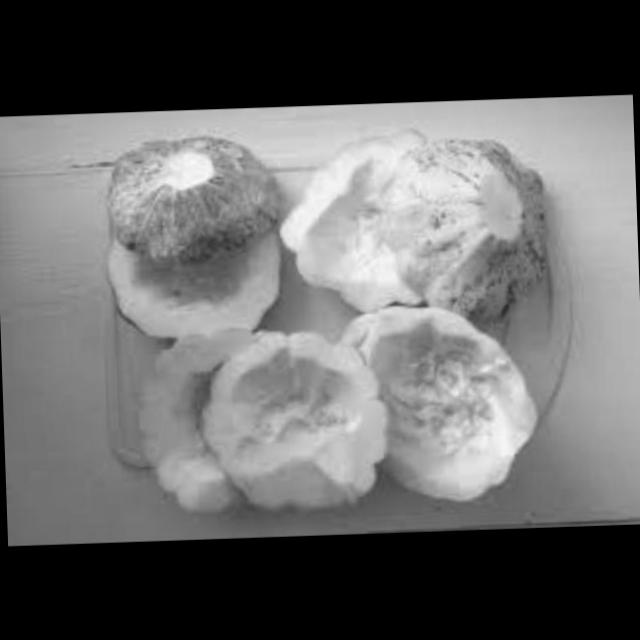squash: (355, 288, 556, 512), (276, 120, 466, 324), (208, 318, 393, 520), (386, 128, 560, 342), (102, 209, 292, 345), (94, 127, 280, 260), (137, 316, 256, 516)
